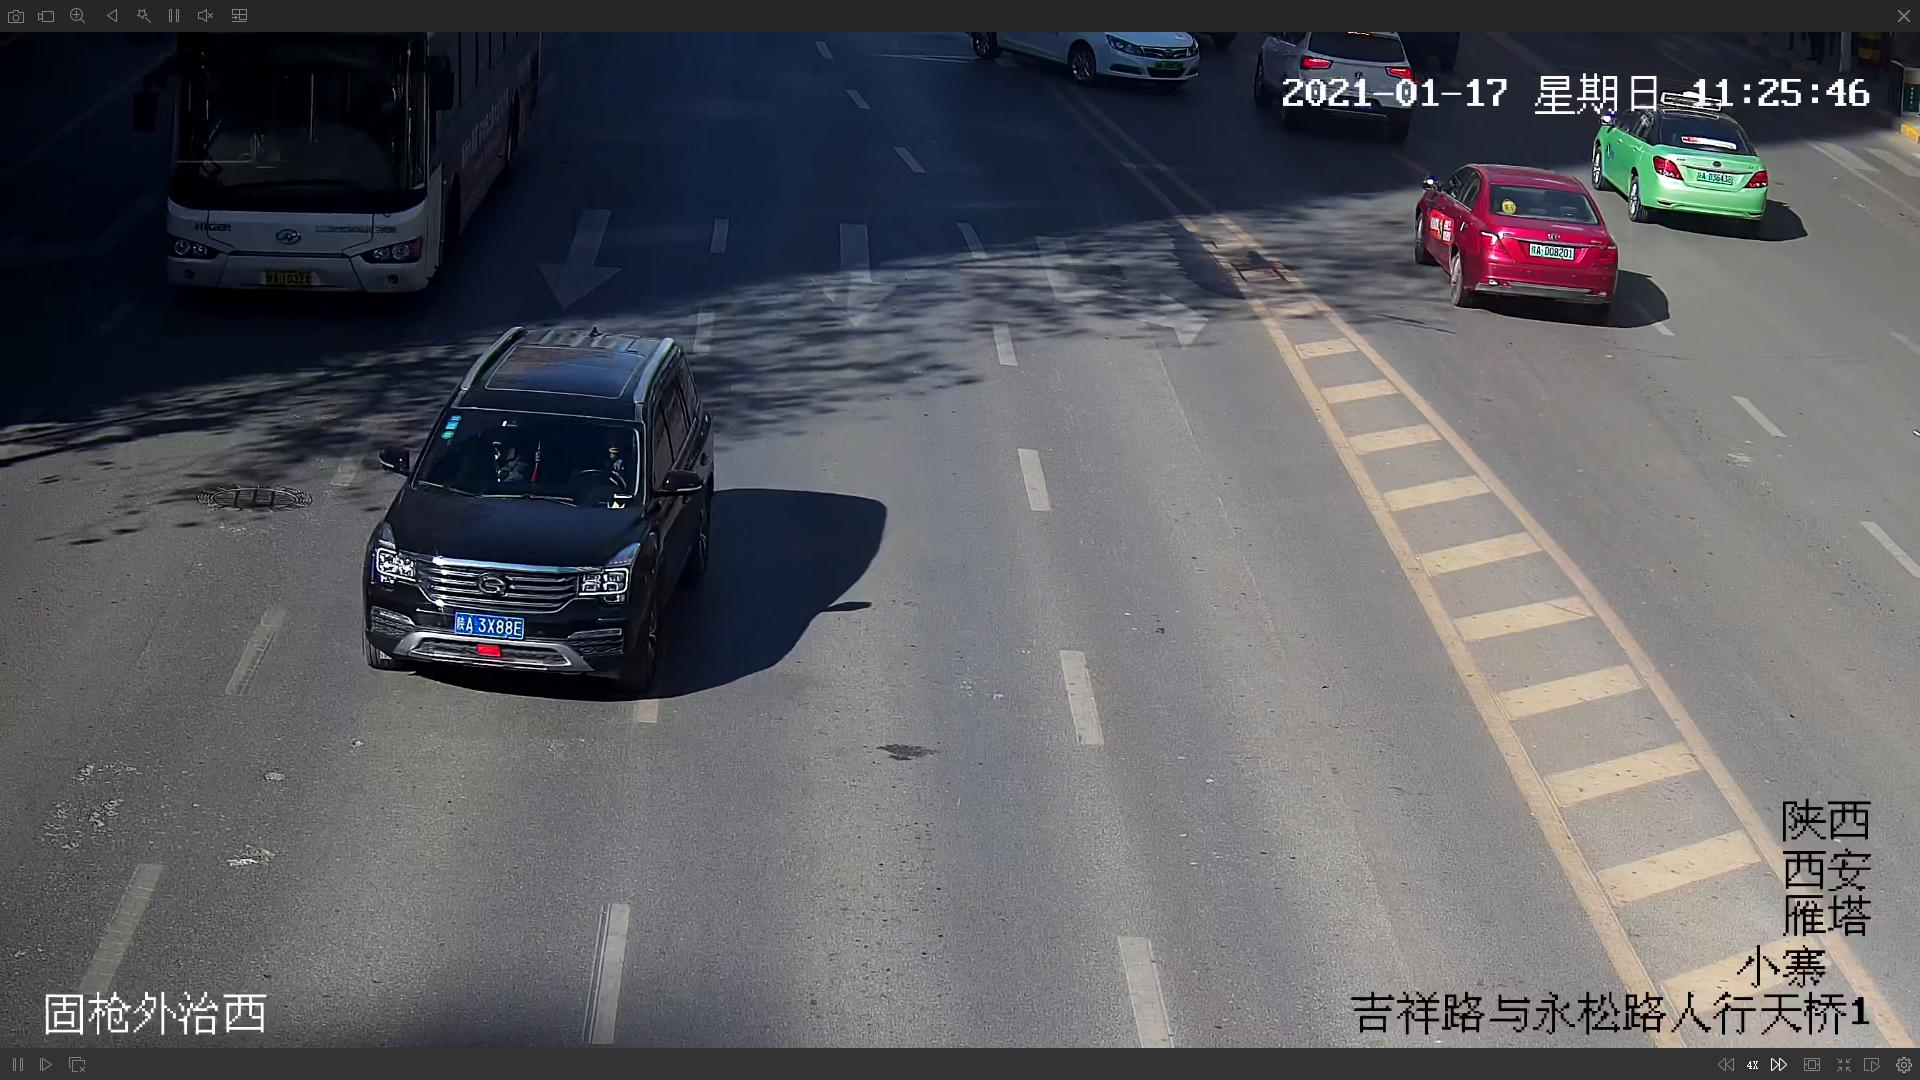black: (368, 319, 720, 698)
white: (146, 28, 463, 291)
